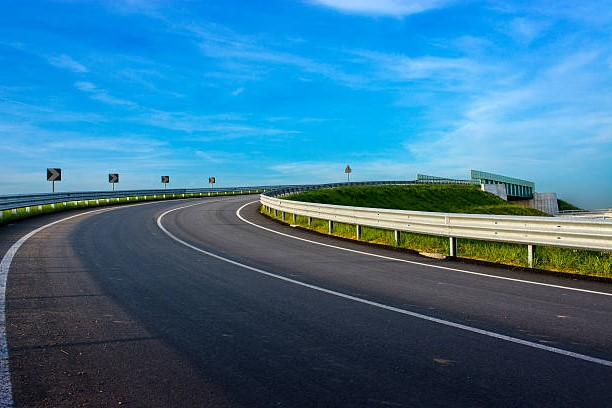rightTrun: (10, 178, 261, 346)
